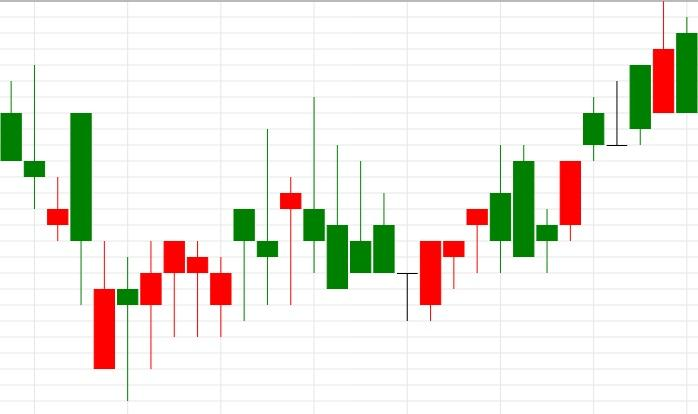bearish_engulfing_fall: (397, 144, 512, 321)
inverse_hammer_rise: (279, 96, 372, 305)
